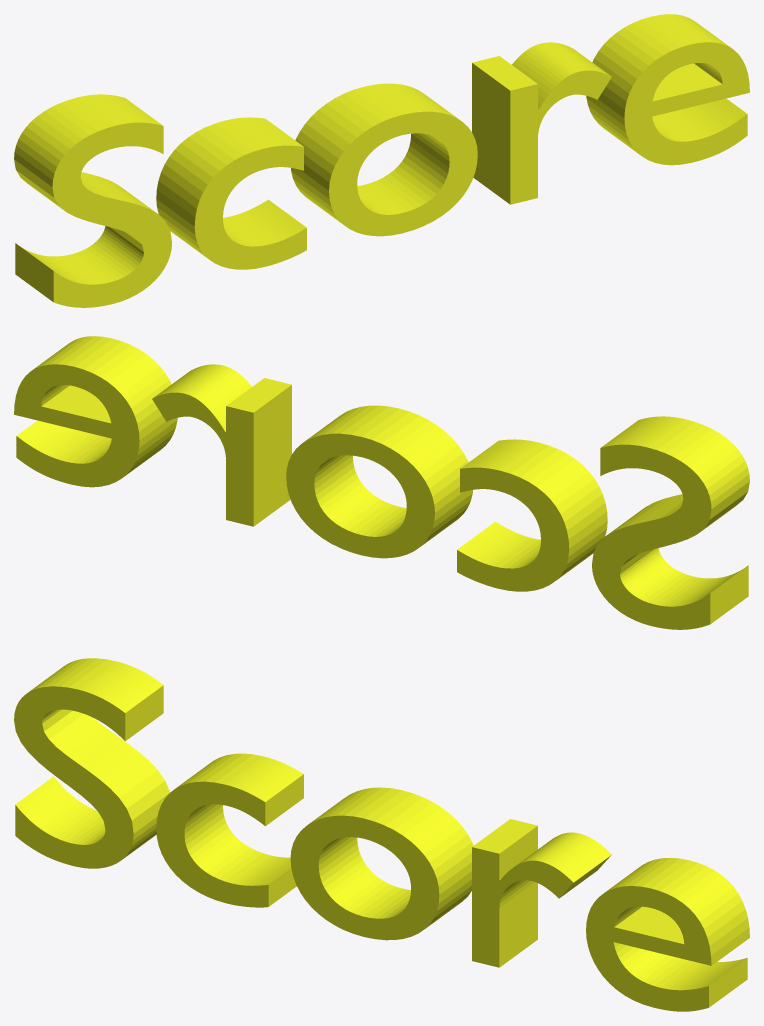
File: Score.obj
3 views of the same model, one above another, from view 1: azimuth 30°, elevation 25°; view 2: azimuth 150°, elevation 25°; view 3: azimuth 330°, elevation 25° (orthographic).
Parts seen in each view (by area): view 1: テキスト; view 2: テキスト; view 3: テキスト.
Boxes of the visible parts, x1,y1,x2,y2 form: テキスト: (14,14,749,307); テキスト: (14,336,749,629); テキスト: (14,658,749,1011).
Size of the model in its own units: 2.25 by 0.5477 by 0.2149.
1 material, 1 textured.
